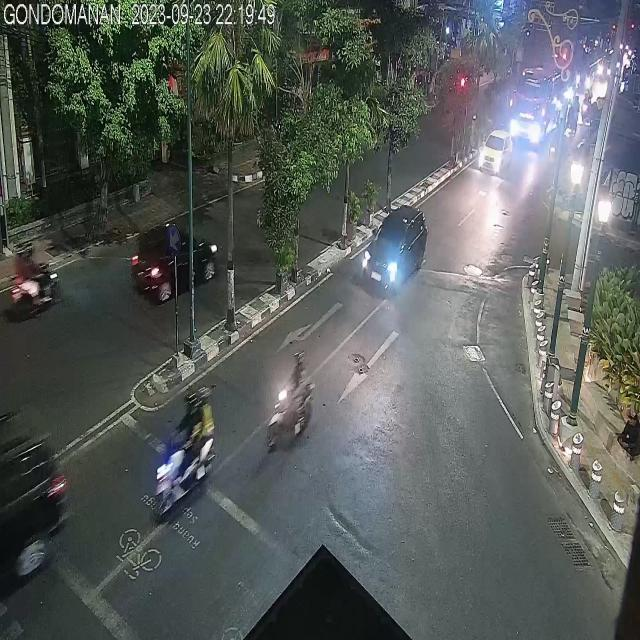bus: (508, 70, 572, 145)
car: (0, 411, 72, 588), (136, 222, 218, 306), (364, 203, 427, 291), (479, 131, 514, 174)
motorcycle: (152, 386, 214, 524), (264, 345, 314, 447), (9, 238, 58, 326)
